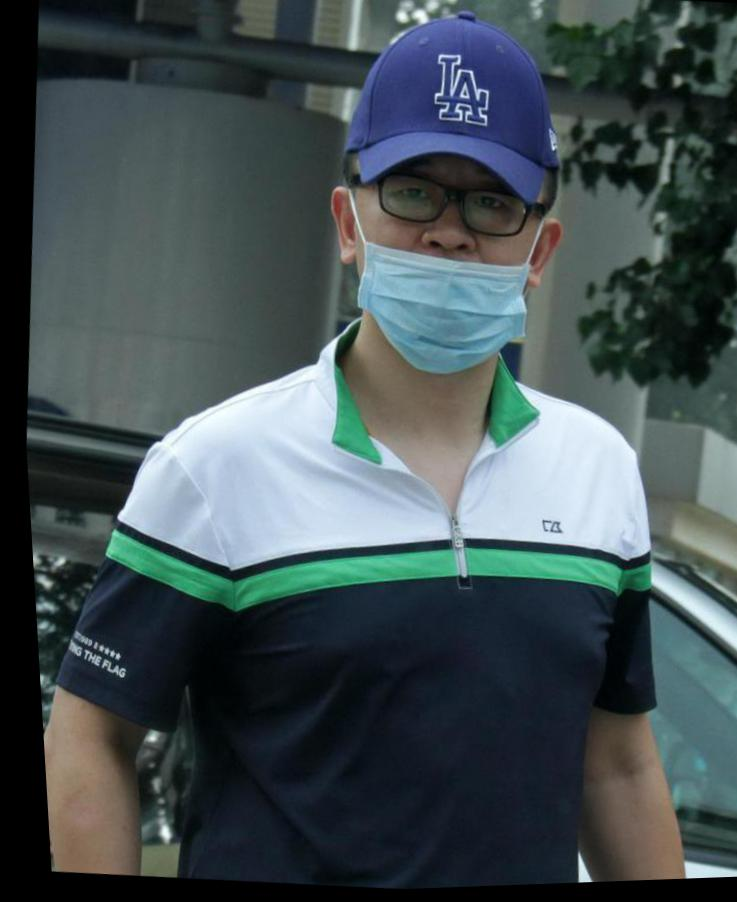WRONG: (328, 145, 556, 370)
